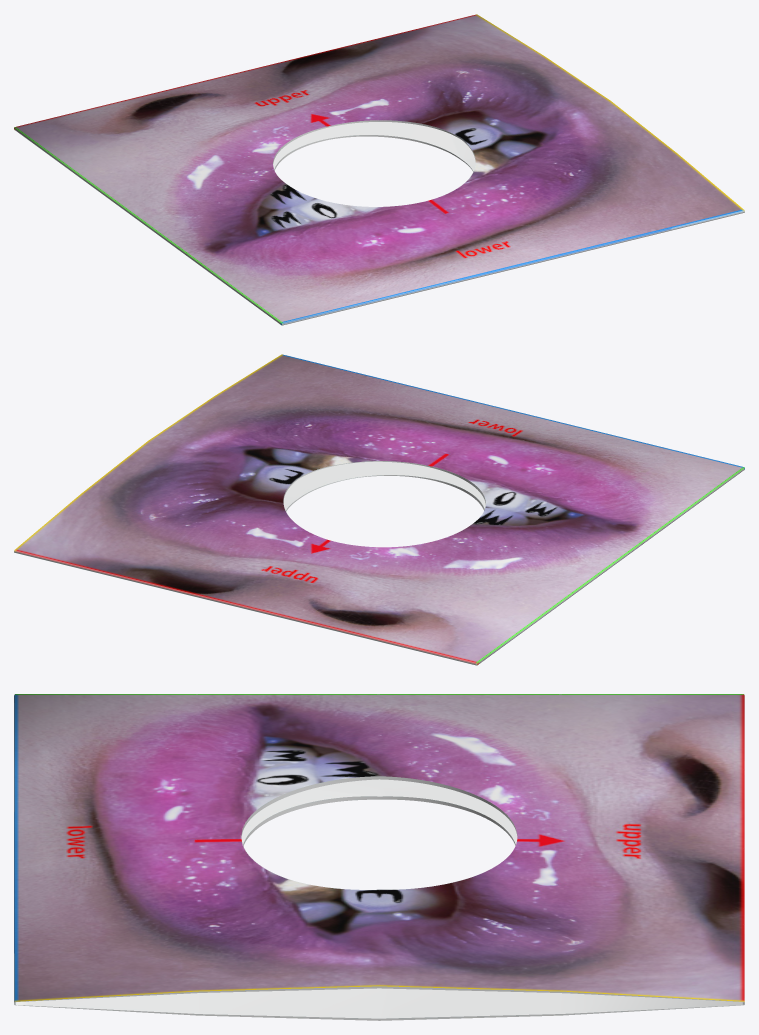
Rendered from sleeve_10_single_no_spine_holed.dae.
3 views of the same model, one above another, from view 1: azimuth 30°, elevation 25°; view 2: azimuth 150°, elevation 25°; view 3: azimuth 270°, elevation 25° (orthographic). The views are drawn at different scales.
Visible parts, largest first — view 1: sleeve; view 2: sleeve; view 3: sleeve.
Boxes of the visible parts, box(x1,y1,x2,y2) form: sleeve: box(14, 14, 744, 325); sleeve: box(14, 354, 744, 665); sleeve: box(14, 694, 744, 1020).
Bounding box in the file's own units: 26.43 × 1.38 × 26.5.
1 material, 1 textured.
